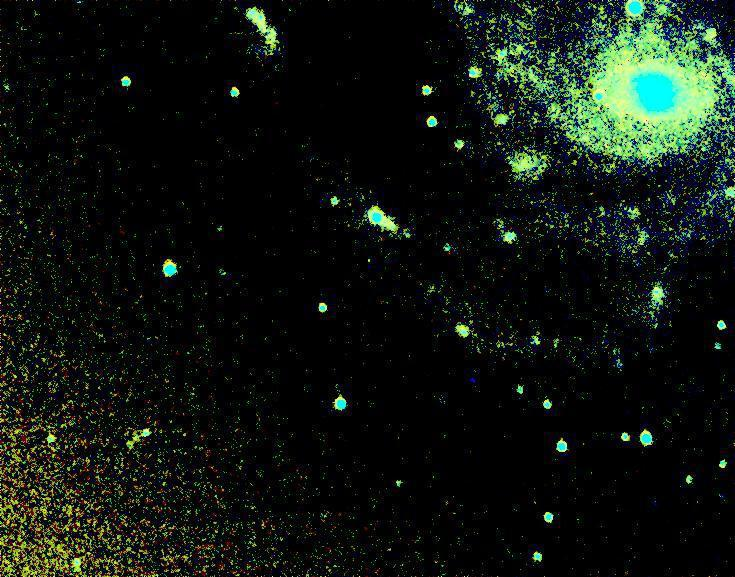star: (355, 244, 385, 274)
